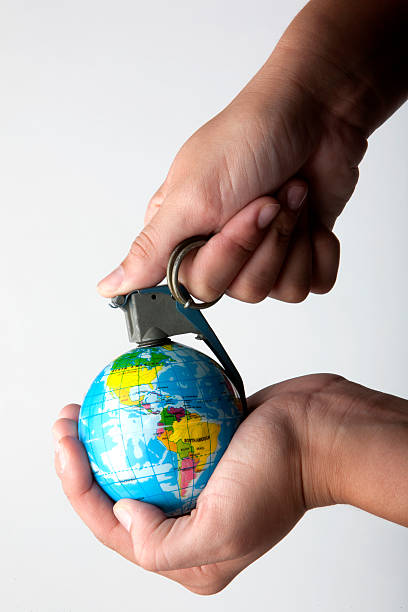e1: (81, 268, 255, 509)
